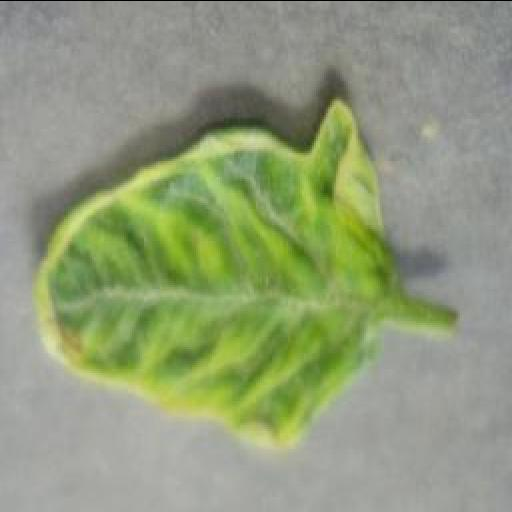disease_tomato: (34, 96, 402, 452)
